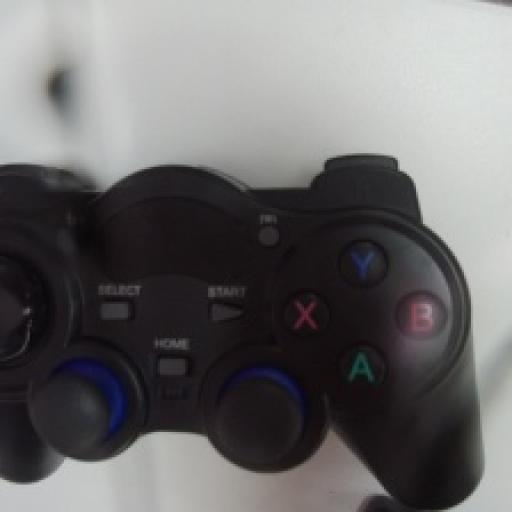game pad: (0, 158, 480, 507)
